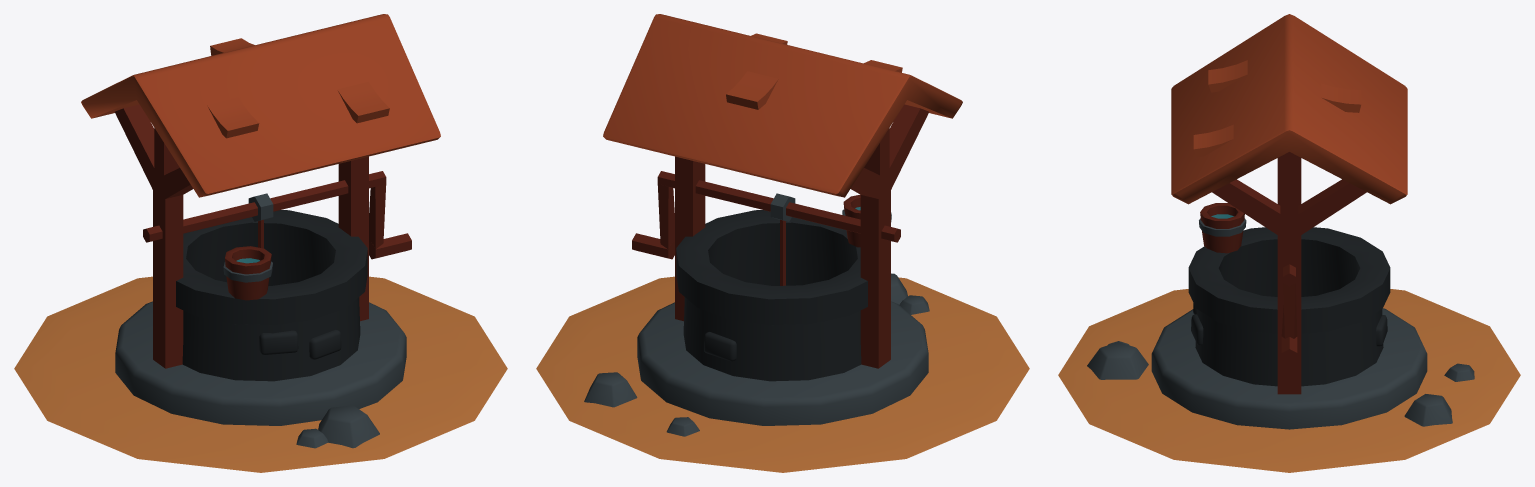
The model's file is well.obj.
The picture shows the model from 3 angles, left to right: view 1: azimuth 30°, elevation 25°; view 2: azimuth 150°, elevation 25°; view 3: azimuth 270°, elevation 25°; orthographic projection. The views are drawn at different scales.
Visible parts, largest first — view 1: well_Cylinder.762; view 2: well_Cylinder.762; view 3: well_Cylinder.762.
Boxes of the visible parts, <box> form: well_Cylinder.762: <box>14,14,507,472</box>; well_Cylinder.762: <box>536,14,1029,472</box>; well_Cylinder.762: <box>1058,14,1520,472</box>.
Bounding box in the file's own units: 1.02 × 0.7366 × 1.02.
